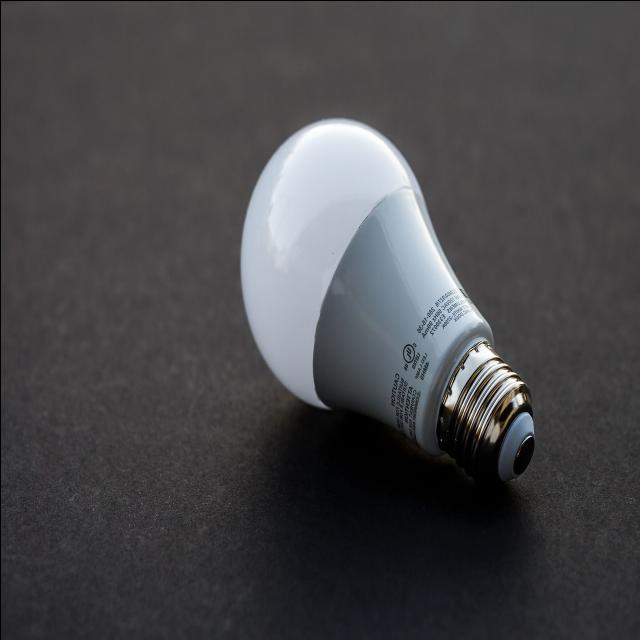light_bulb: (221, 75, 547, 535)
